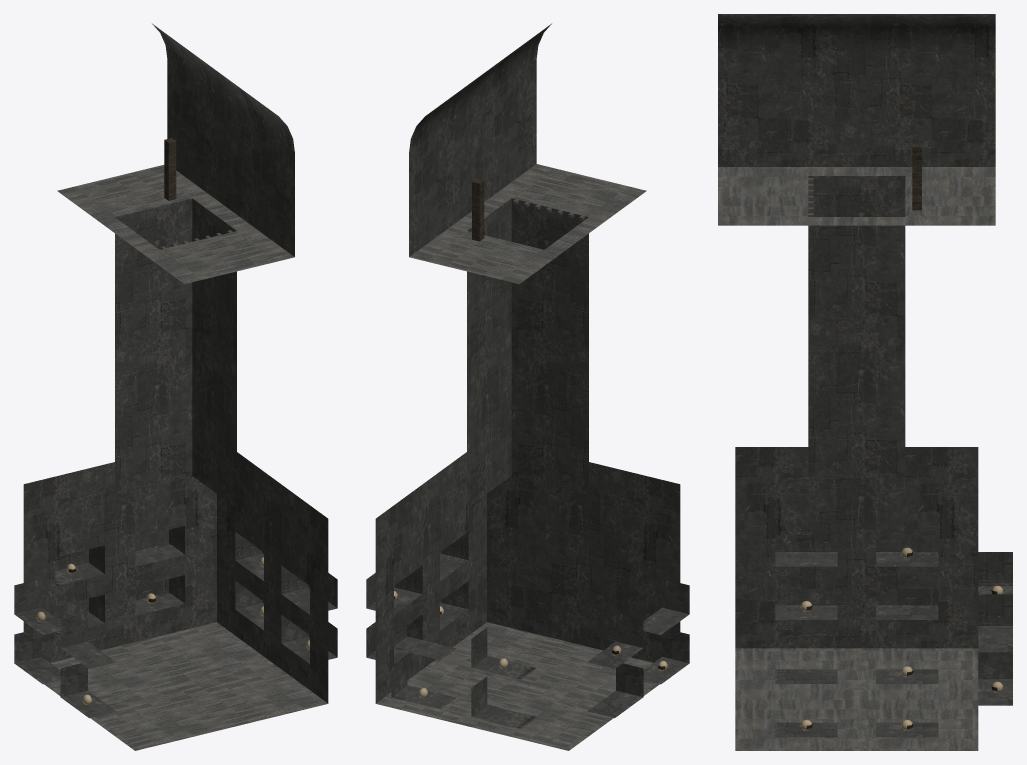
Rendered from sunken-ossuary.3bb72828.gltf.
The picture shows the model from 3 angles, left to right: view 1: azimuth 30°, elevation 25°; view 2: azimuth 150°, elevation 25°; view 3: azimuth 270°, elevation 25°; orthographic projection. The views are drawn at different scales.
Parts seen in each view (by area): view 1: sunken-ossuary-mesh, sunken-ossuary-post; view 2: sunken-ossuary-mesh, sunken-ossuary-post; view 3: sunken-ossuary-mesh, sunken-ossuary-bones, sunken-ossuary-post.
Part boxes in pixels (left/top/right/bottom): sunken-ossuary-mesh: left=14, top=23, right=337, bottom=750; sunken-ossuary-post: left=164, top=138, right=176, bottom=200; sunken-ossuary-mesh: left=366, top=23, right=689, bottom=750; sunken-ossuary-post: left=472, top=178, right=484, bottom=241; sunken-ossuary-mesh: left=718, top=14, right=1012, bottom=750; sunken-ossuary-bones: left=800, top=547, right=1003, bottom=730; sunken-ossuary-post: left=912, top=143, right=921, bottom=210.
Bounding box in the file's own units: 4.5 × 10.8 × 4.25.
Materials: 5 (3 with a texture image).
